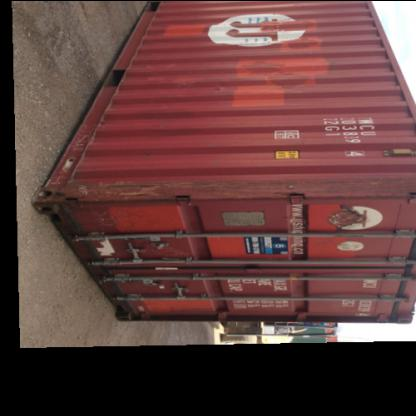Damage: (302, 166, 416, 196), (62, 176, 186, 197), (187, 176, 297, 198), (80, 231, 118, 266), (78, 210, 113, 236)
